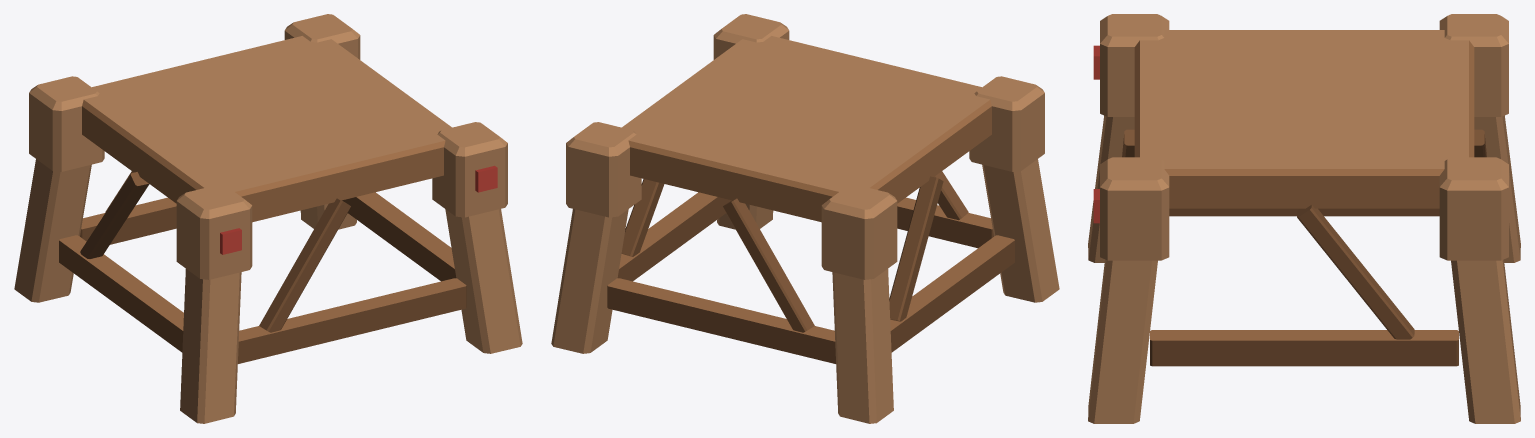
The model's file is FMS_Workshop_FUR_07.fbx.
The picture shows the model from 3 angles, left to right: view 1: azimuth 30°, elevation 25°; view 2: azimuth 150°, elevation 25°; view 3: azimuth 270°, elevation 25°; orthographic projection. The views are drawn at different scales.
Parts seen in each view (by area): view 1: FMS_Workshop_FUR_07_Body; view 2: FMS_Workshop_FUR_07_Body; view 3: FMS_Workshop_FUR_07_Body.
Part boxes in pixels (<box>): FMS_Workshop_FUR_07_Body: <box>14,14,522,423</box>; FMS_Workshop_FUR_07_Body: <box>551,14,1059,423</box>; FMS_Workshop_FUR_07_Body: <box>1088,14,1520,423</box>.
Bounding box in the file's own units: 0.8406 × 0.505 × 0.8415.
1 material, 1 textured.
